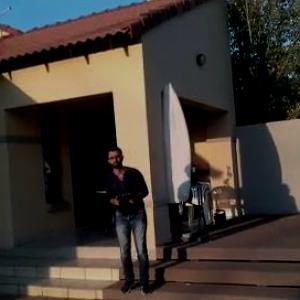follow: (102, 142, 154, 298)
